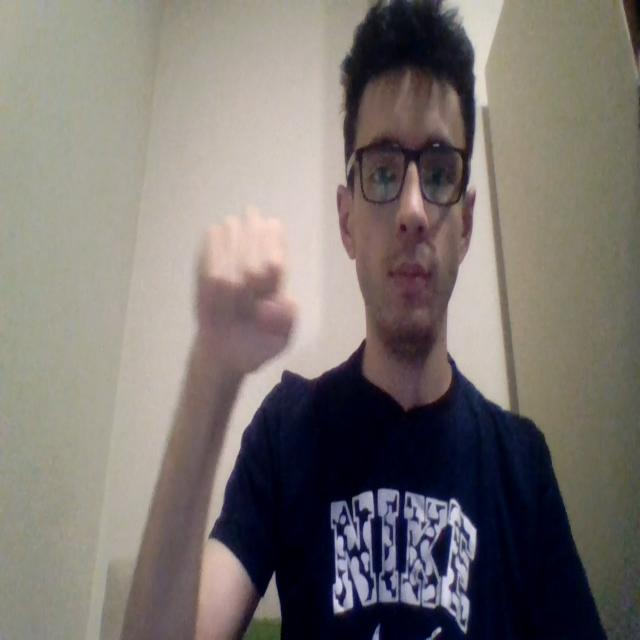yes: (193, 205, 299, 376)
